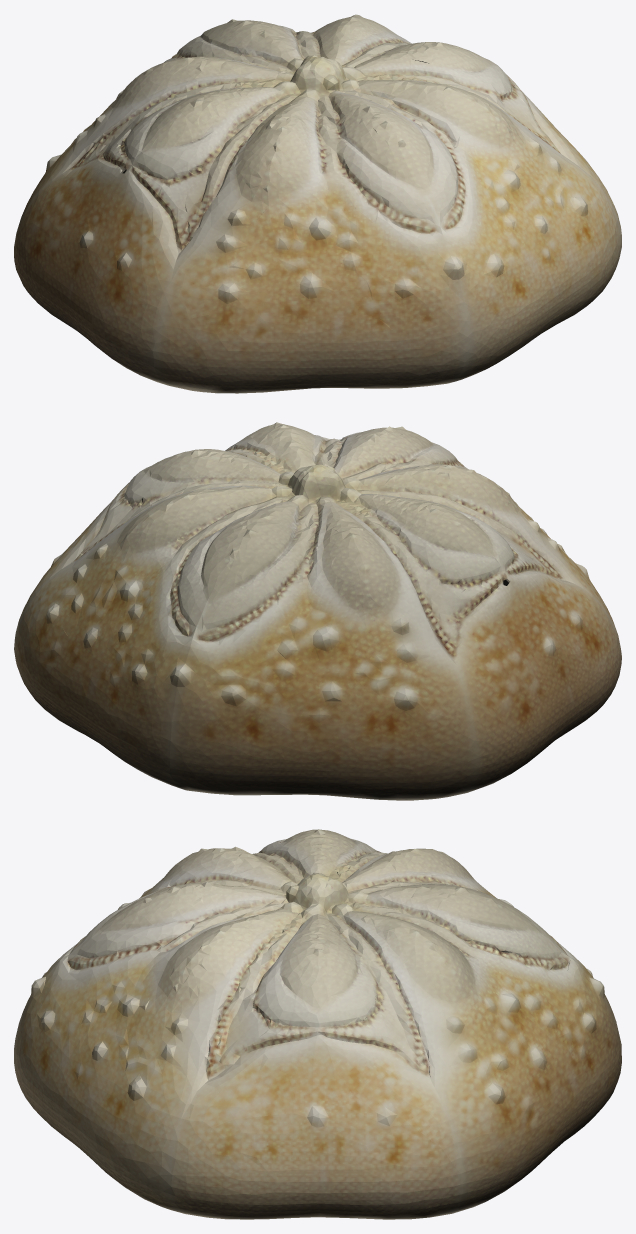
3 renders of one model, top to bottom at view 1: azimuth 30°, elevation 25°; view 2: azimuth 150°, elevation 25°; view 3: azimuth 270°, elevation 25°, orthographic. The views are drawn at different scales.
Parts seen in each view (by area): view 1: world; view 2: world; view 3: world.
Boxes of the visible parts, x1=… form: world: x1=14, y1=14, x2=621, y2=393; world: x1=14, y1=422, x2=621, y2=800; world: x1=14, y1=829, x2=621, y2=1219.
Bounding box in the file's own units: 0.978 × 0.4468 × 0.9996.
2 materials, 2 textured.
